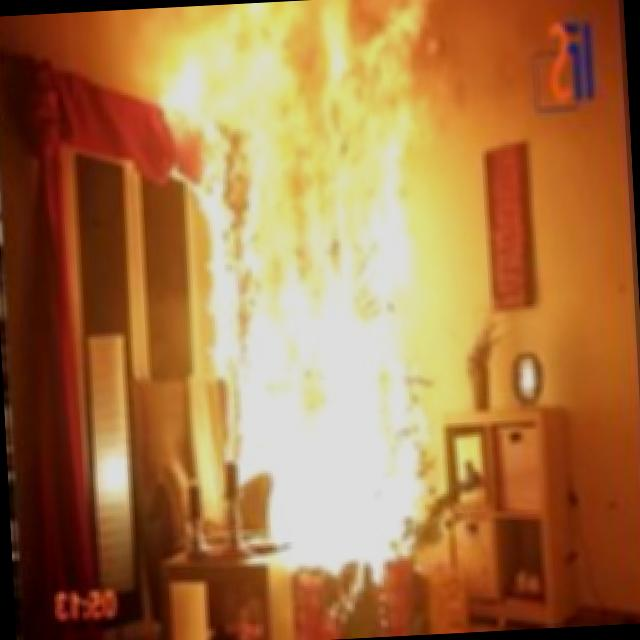fire: (137, 0, 500, 603)
